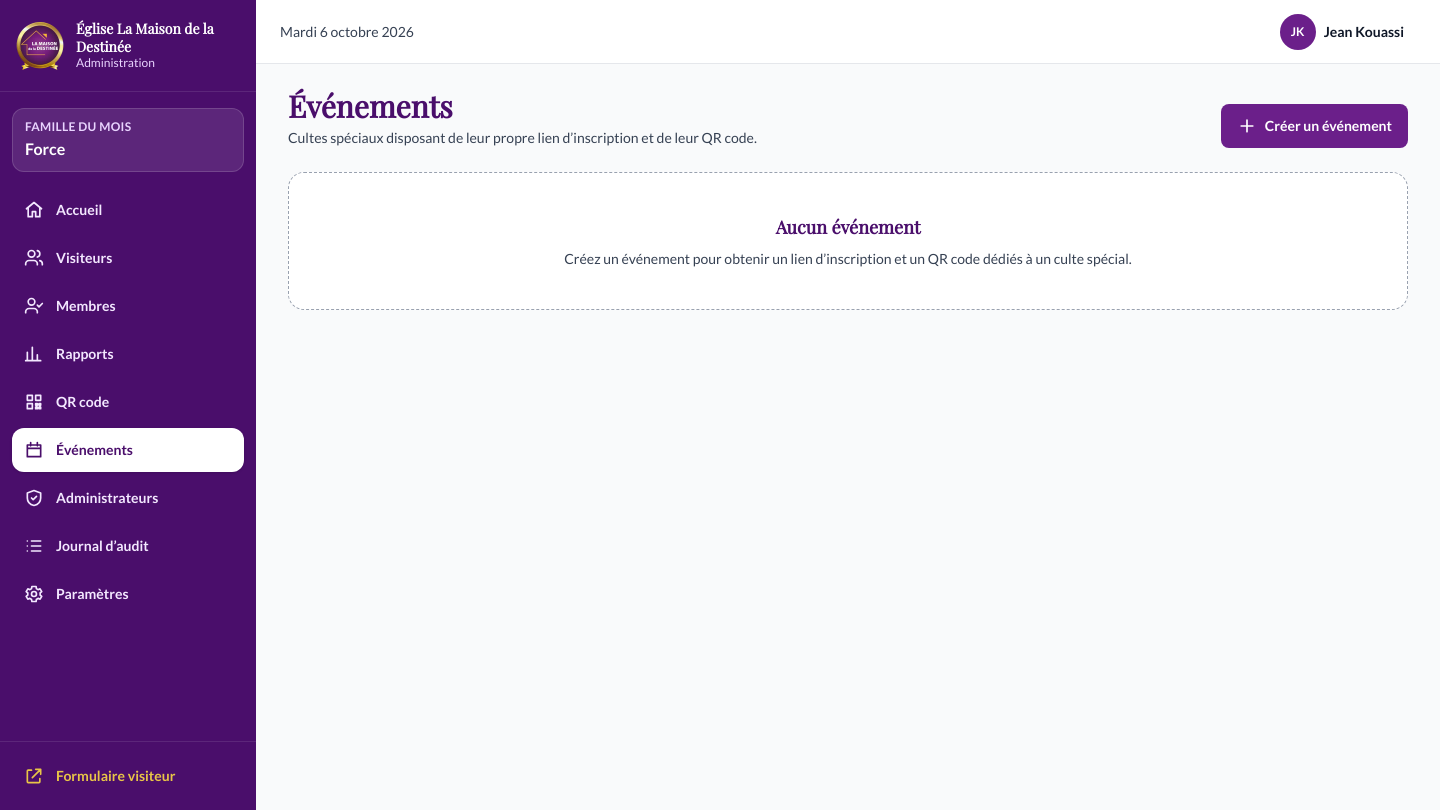
Test: événements — création › propose le lien d’après le nom, le laisse modifier, puis crée l’événement
The width and height of the screenshot is (1440, 810).
Click the button "Créer un événement" at (1314, 126), box [1221,104,1408,148]
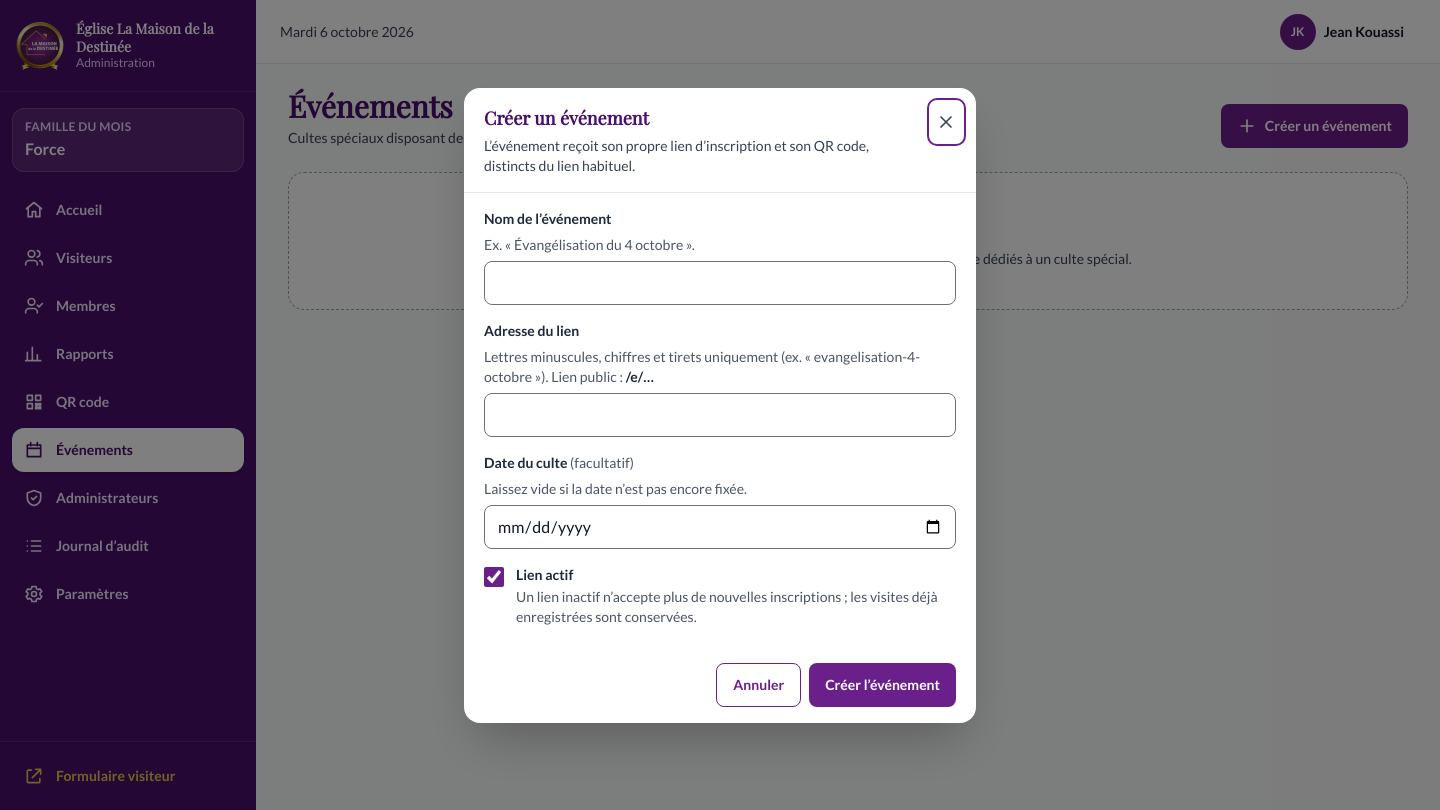
Type "Évangélisation du 4 octobre" into the field labelled "Nom de l’événement" at (720, 282), box [484,260,956,304]
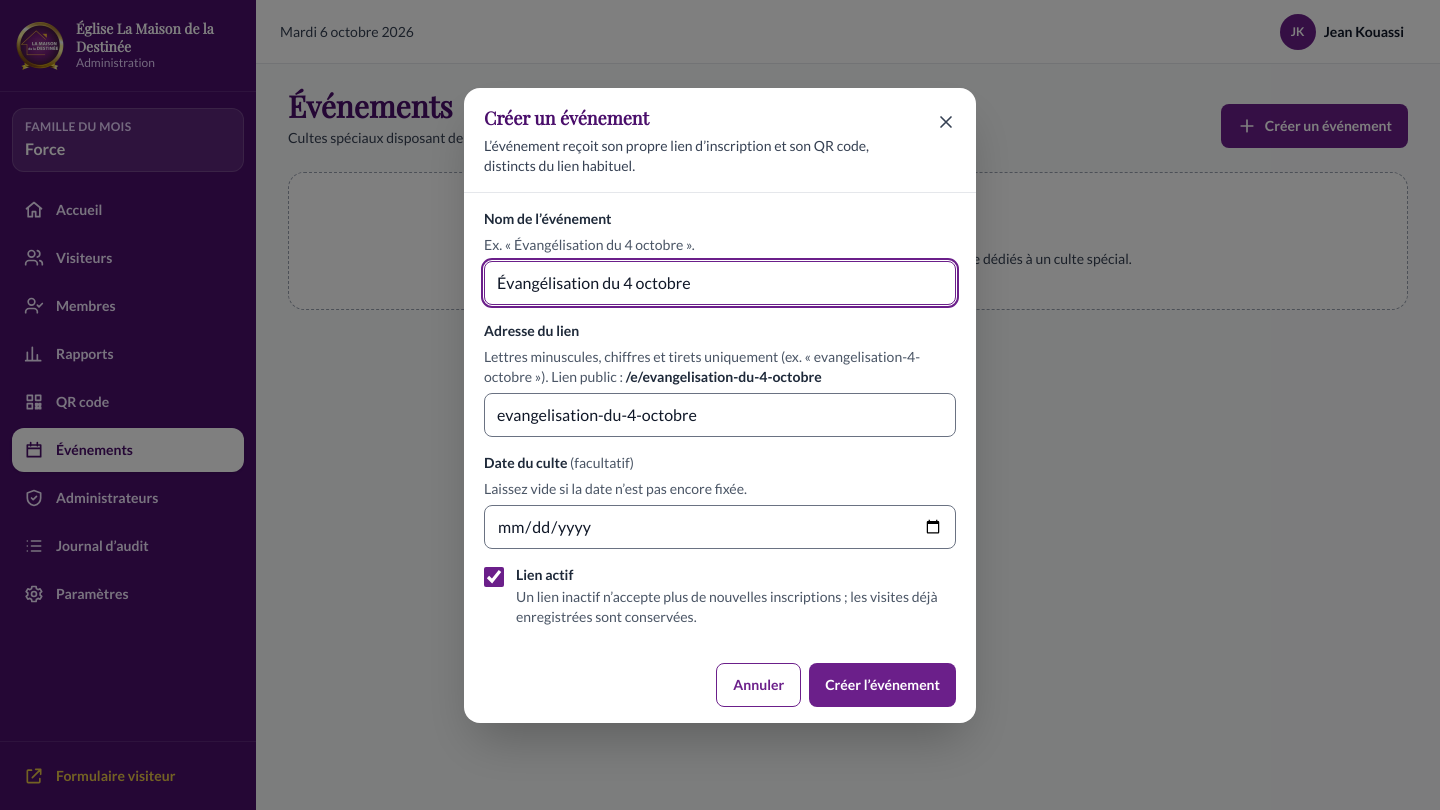
Check: the field labelled "Adresse du lien" holds "evangelisation-du-4-octobre"
// …puis modifié à la main : la proposition ne reprend pas la main.
Replace the text in the field labelled "Adresse du lien" with "evangelisation-4-octobre" at (720, 414), box [484,392,956,436]
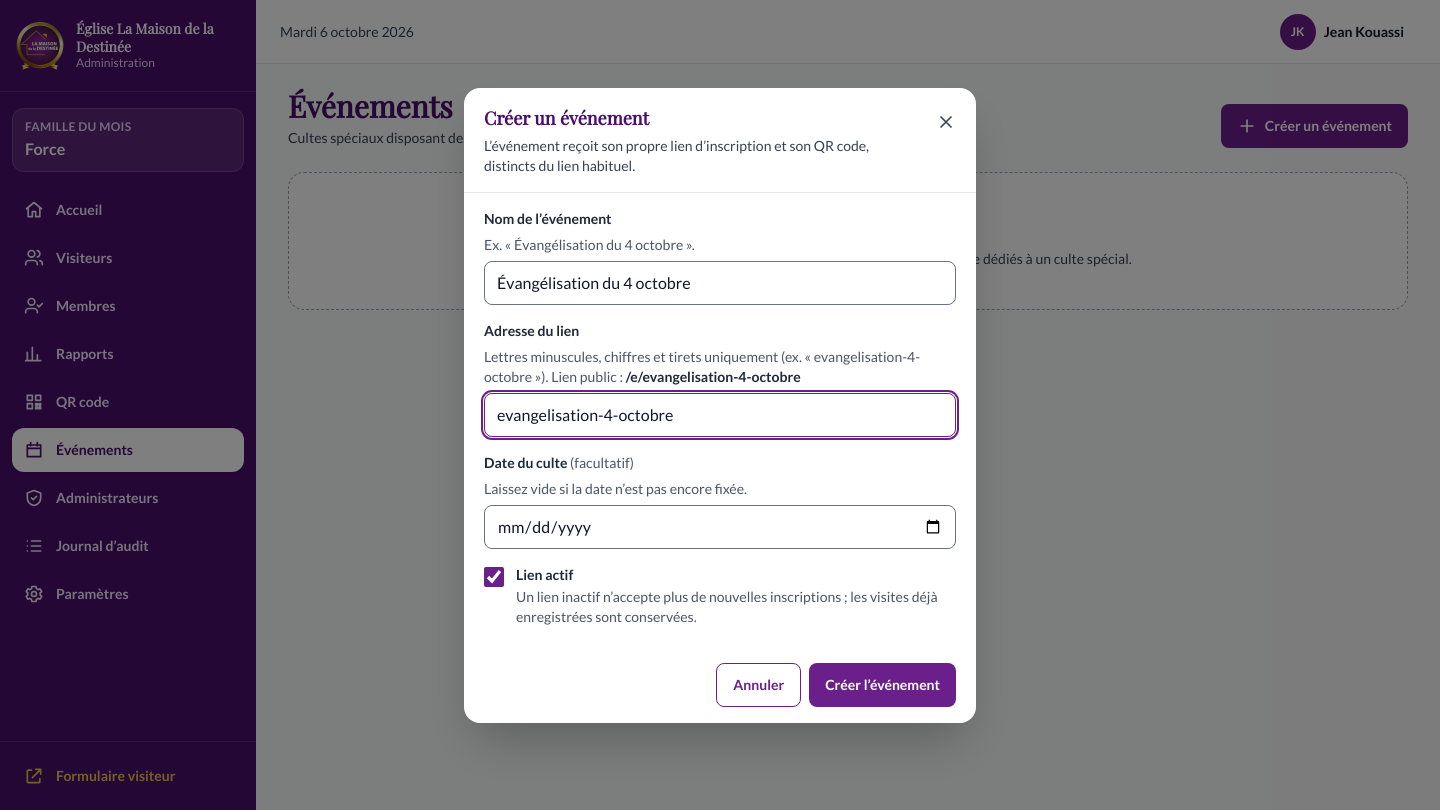
Type " 2026" into the field labelled "Nom de l’événement" at (720, 282), box [484,260,956,304]
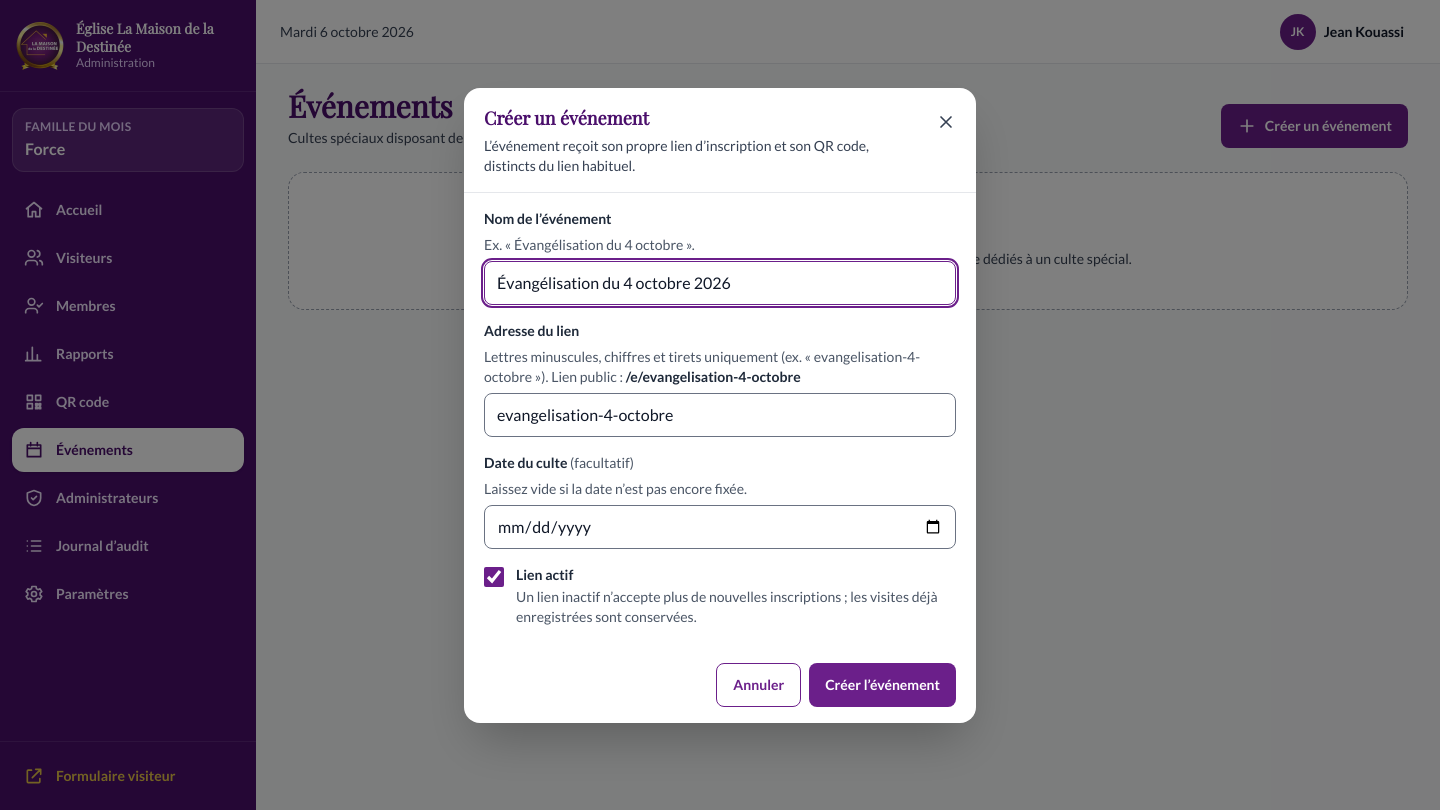
Type "2026-10-04" into the date field labelled "Date du culte (facultatif)" at (720, 526), box [484,504,956,548]
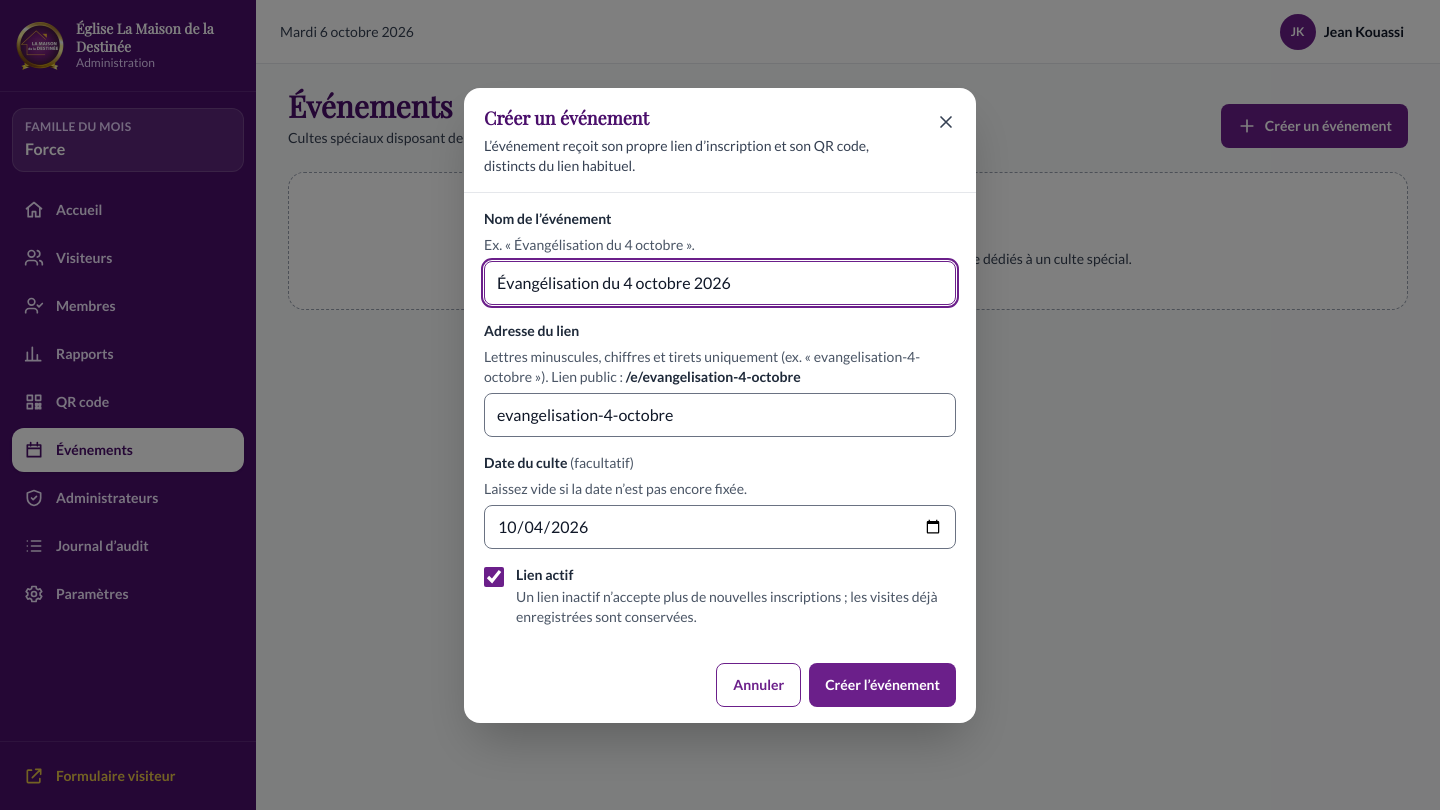
Click the button "Créer l’événement" at (883, 684), box [809,662,956,706]
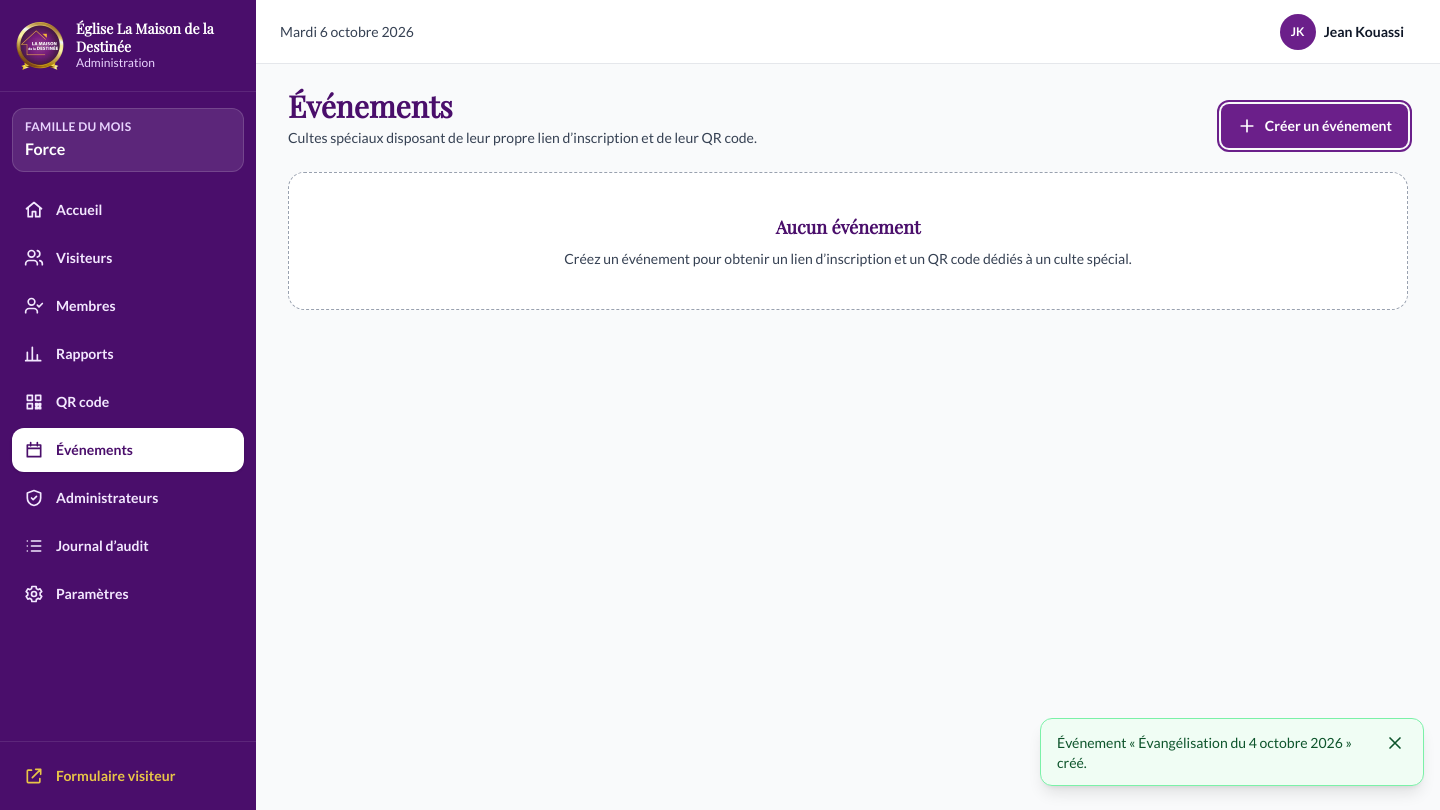
Check: the dialog is gone
